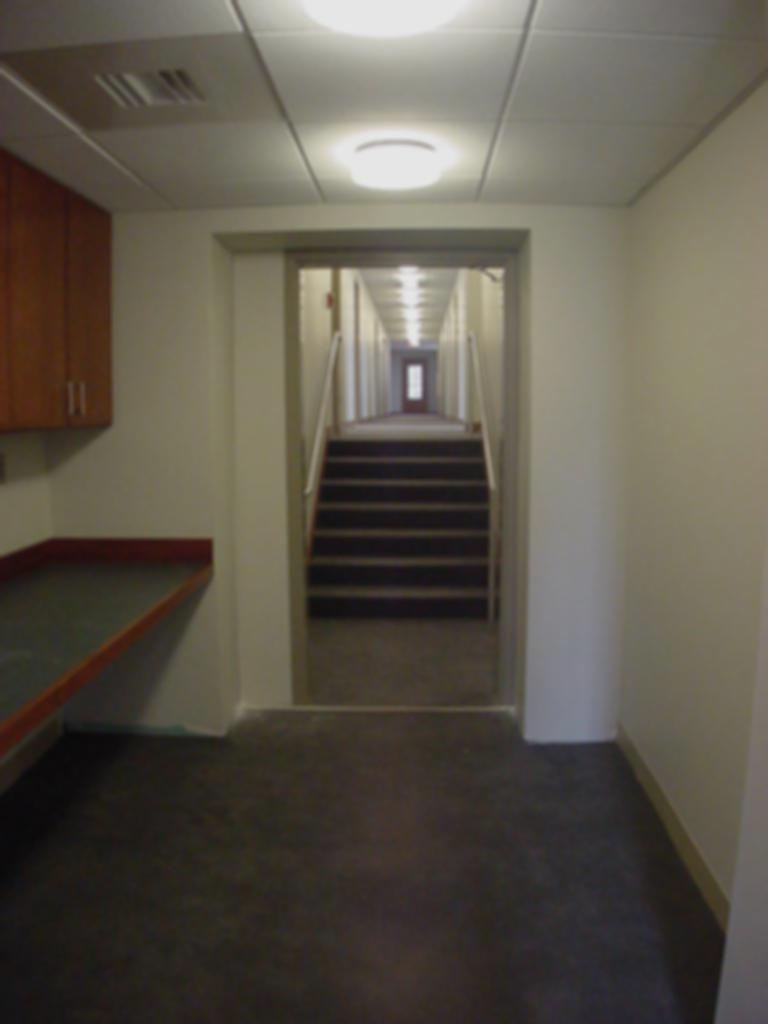Escaleras: (313, 415, 483, 607)
